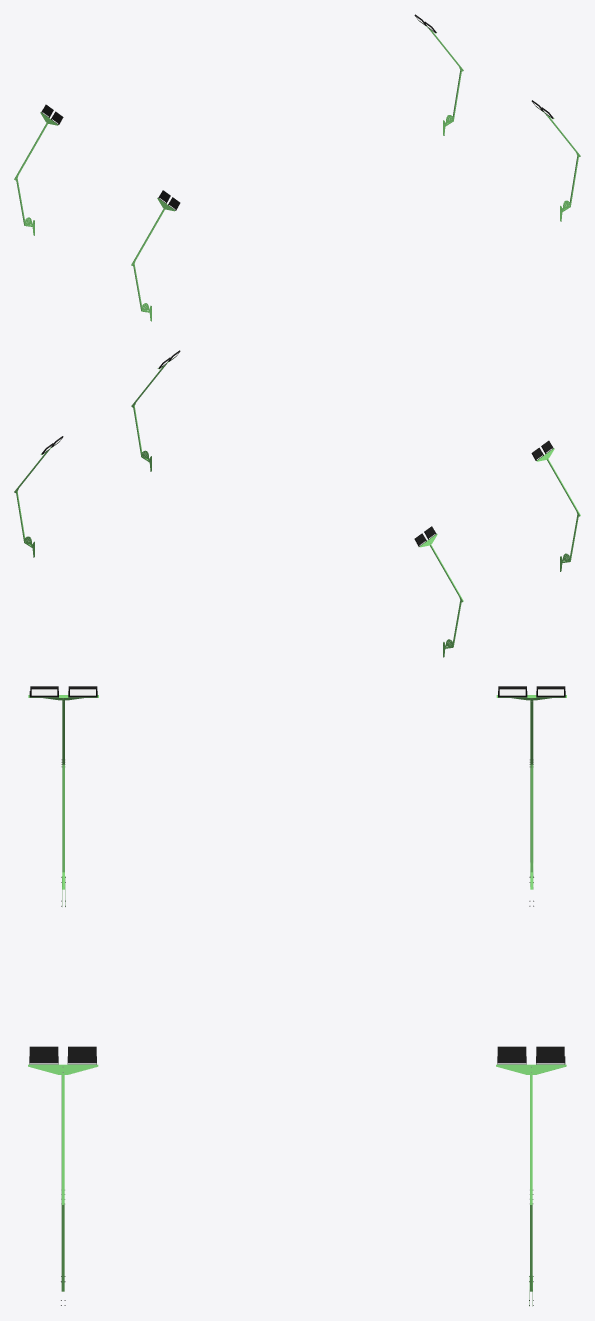
File: lights-4posts.glb
3 renders of one model, top to bottom at view 1: azimuth 30°, elevation 25°; view 2: azimuth 150°, elevation 25°; view 3: azimuth 270°, elevation 25°, orthographic. The views are drawn at different scales.
Parts seen in each view (by area): view 1: Lighting_mast004.001; view 2: Lighting_mast004.001; view 3: Lighting_mast004.001.
Boxes of the visible parts, x1=… form: Lighting_mast004.001: x1=14, y1=14, x2=580, y2=321; Lighting_mast004.001: x1=14, y1=350, x2=580, y2=657; Lighting_mast004.001: x1=28, y1=686, x2=566, y2=1306.
Size of the model in its own units: 22.07 by 5.64 by 11.47.
